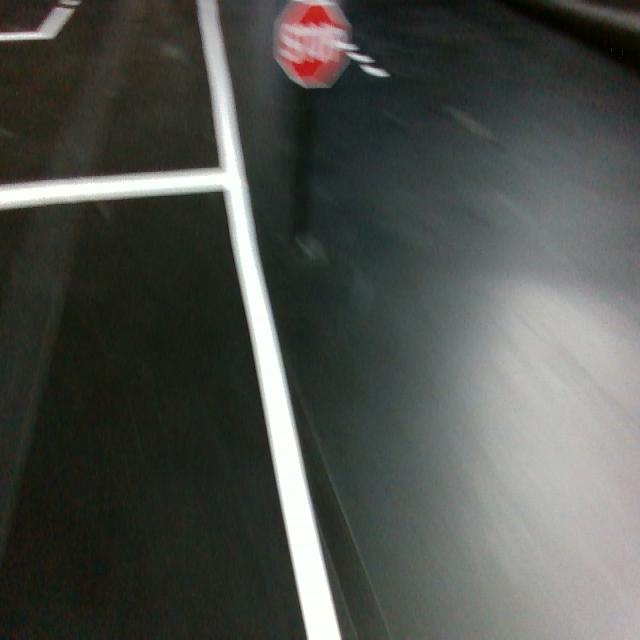stop-sign: (271, 0, 352, 89)
